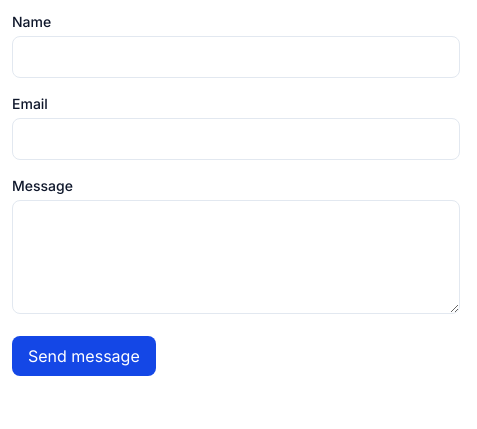
Test: ContactForm › submits successfully with valid input
In the field labelled "Name": (236, 57) 12,36 -> 460,78, type "Jane"
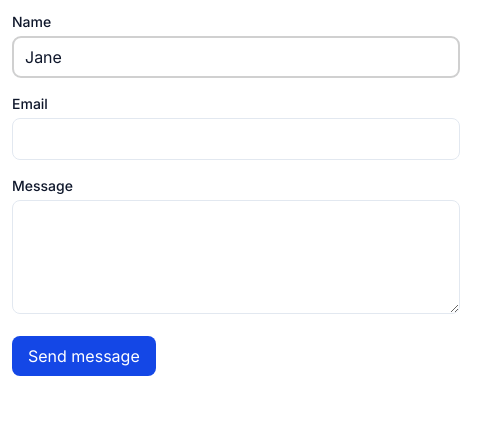
In the field labelled "Email": (236, 139) 12,118 -> 460,160, type "jane@example.com"
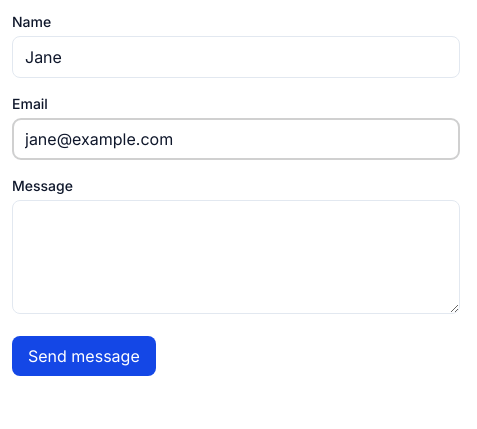
In the text box labelled "Message": (236, 257) 12,200 -> 460,314, type "Hello there"
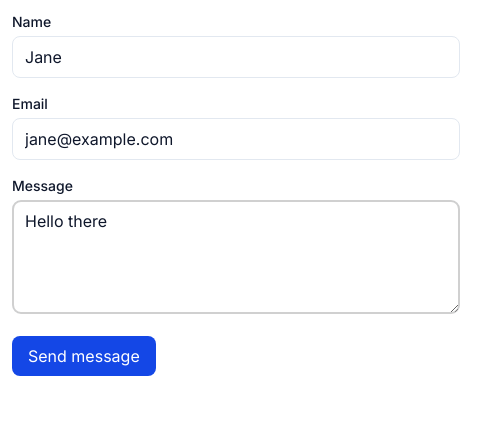
Click the button "Send message": (84, 356) 12,336 -> 156,376
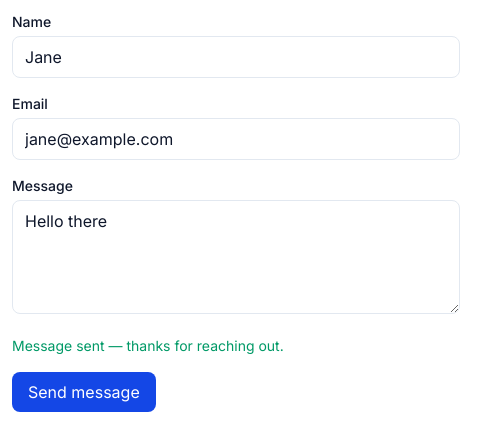
Expected: the message shows "thanks for reaching out", 12,337 -> 284,354
